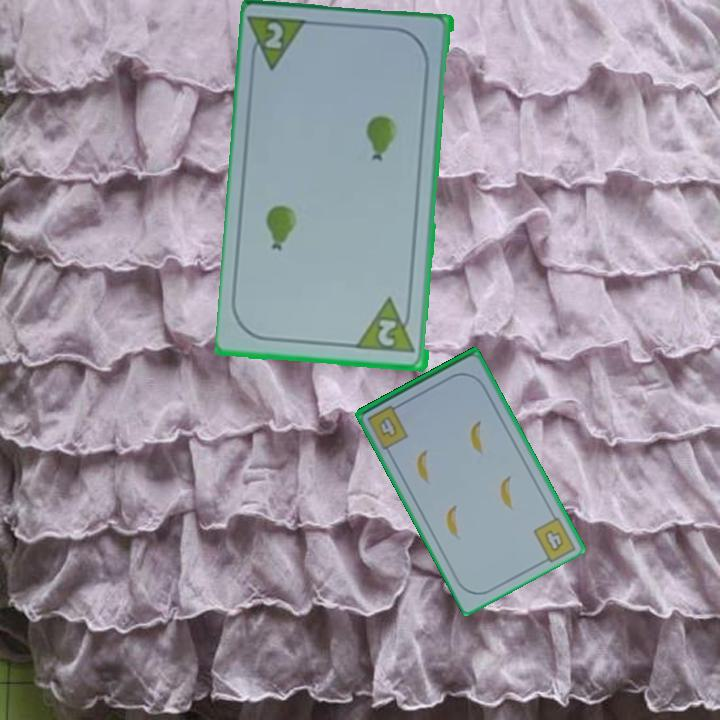2p: (355, 295, 419, 357), (262, 19, 287, 52)
4b: (364, 400, 411, 451), (541, 526, 567, 555)
